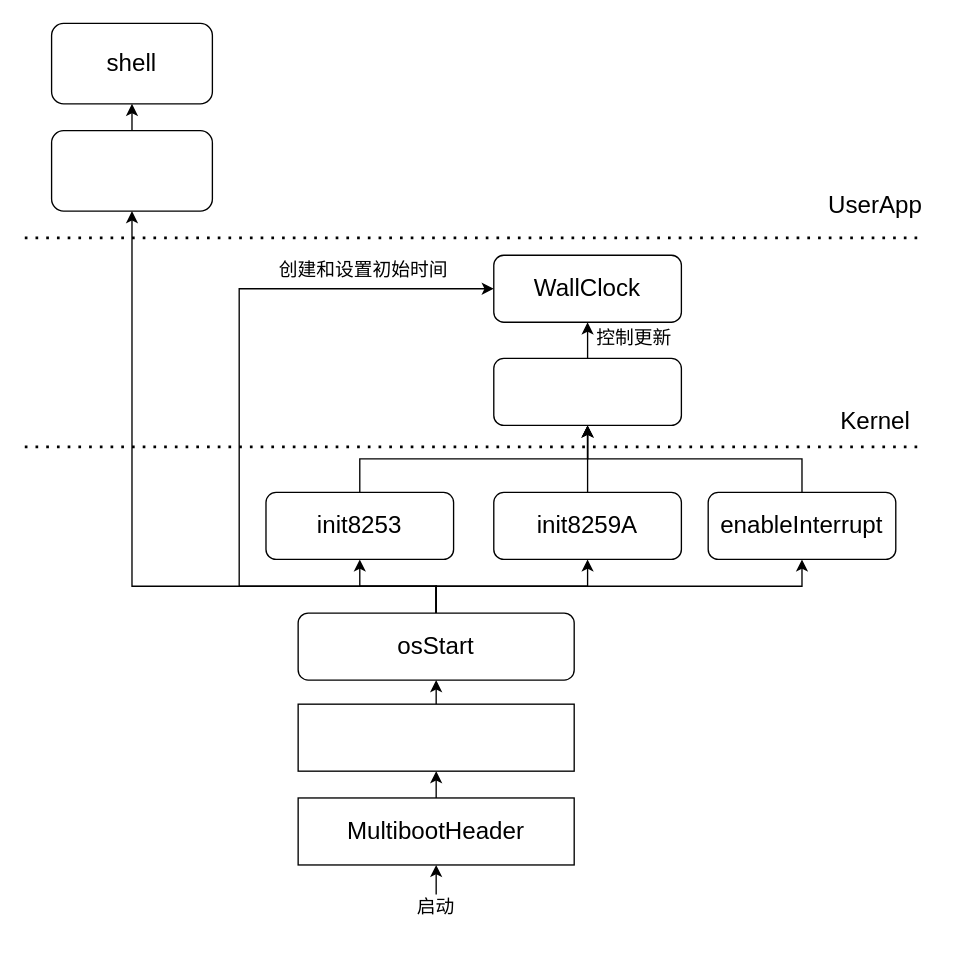
This 972x957 diagram has some shape labels left out. Here are the shapes that lost their labels. From the top down, the centre of each, then its label:
point (131, 170): myMain
point (586, 391): Tick
point (435, 737): start32
